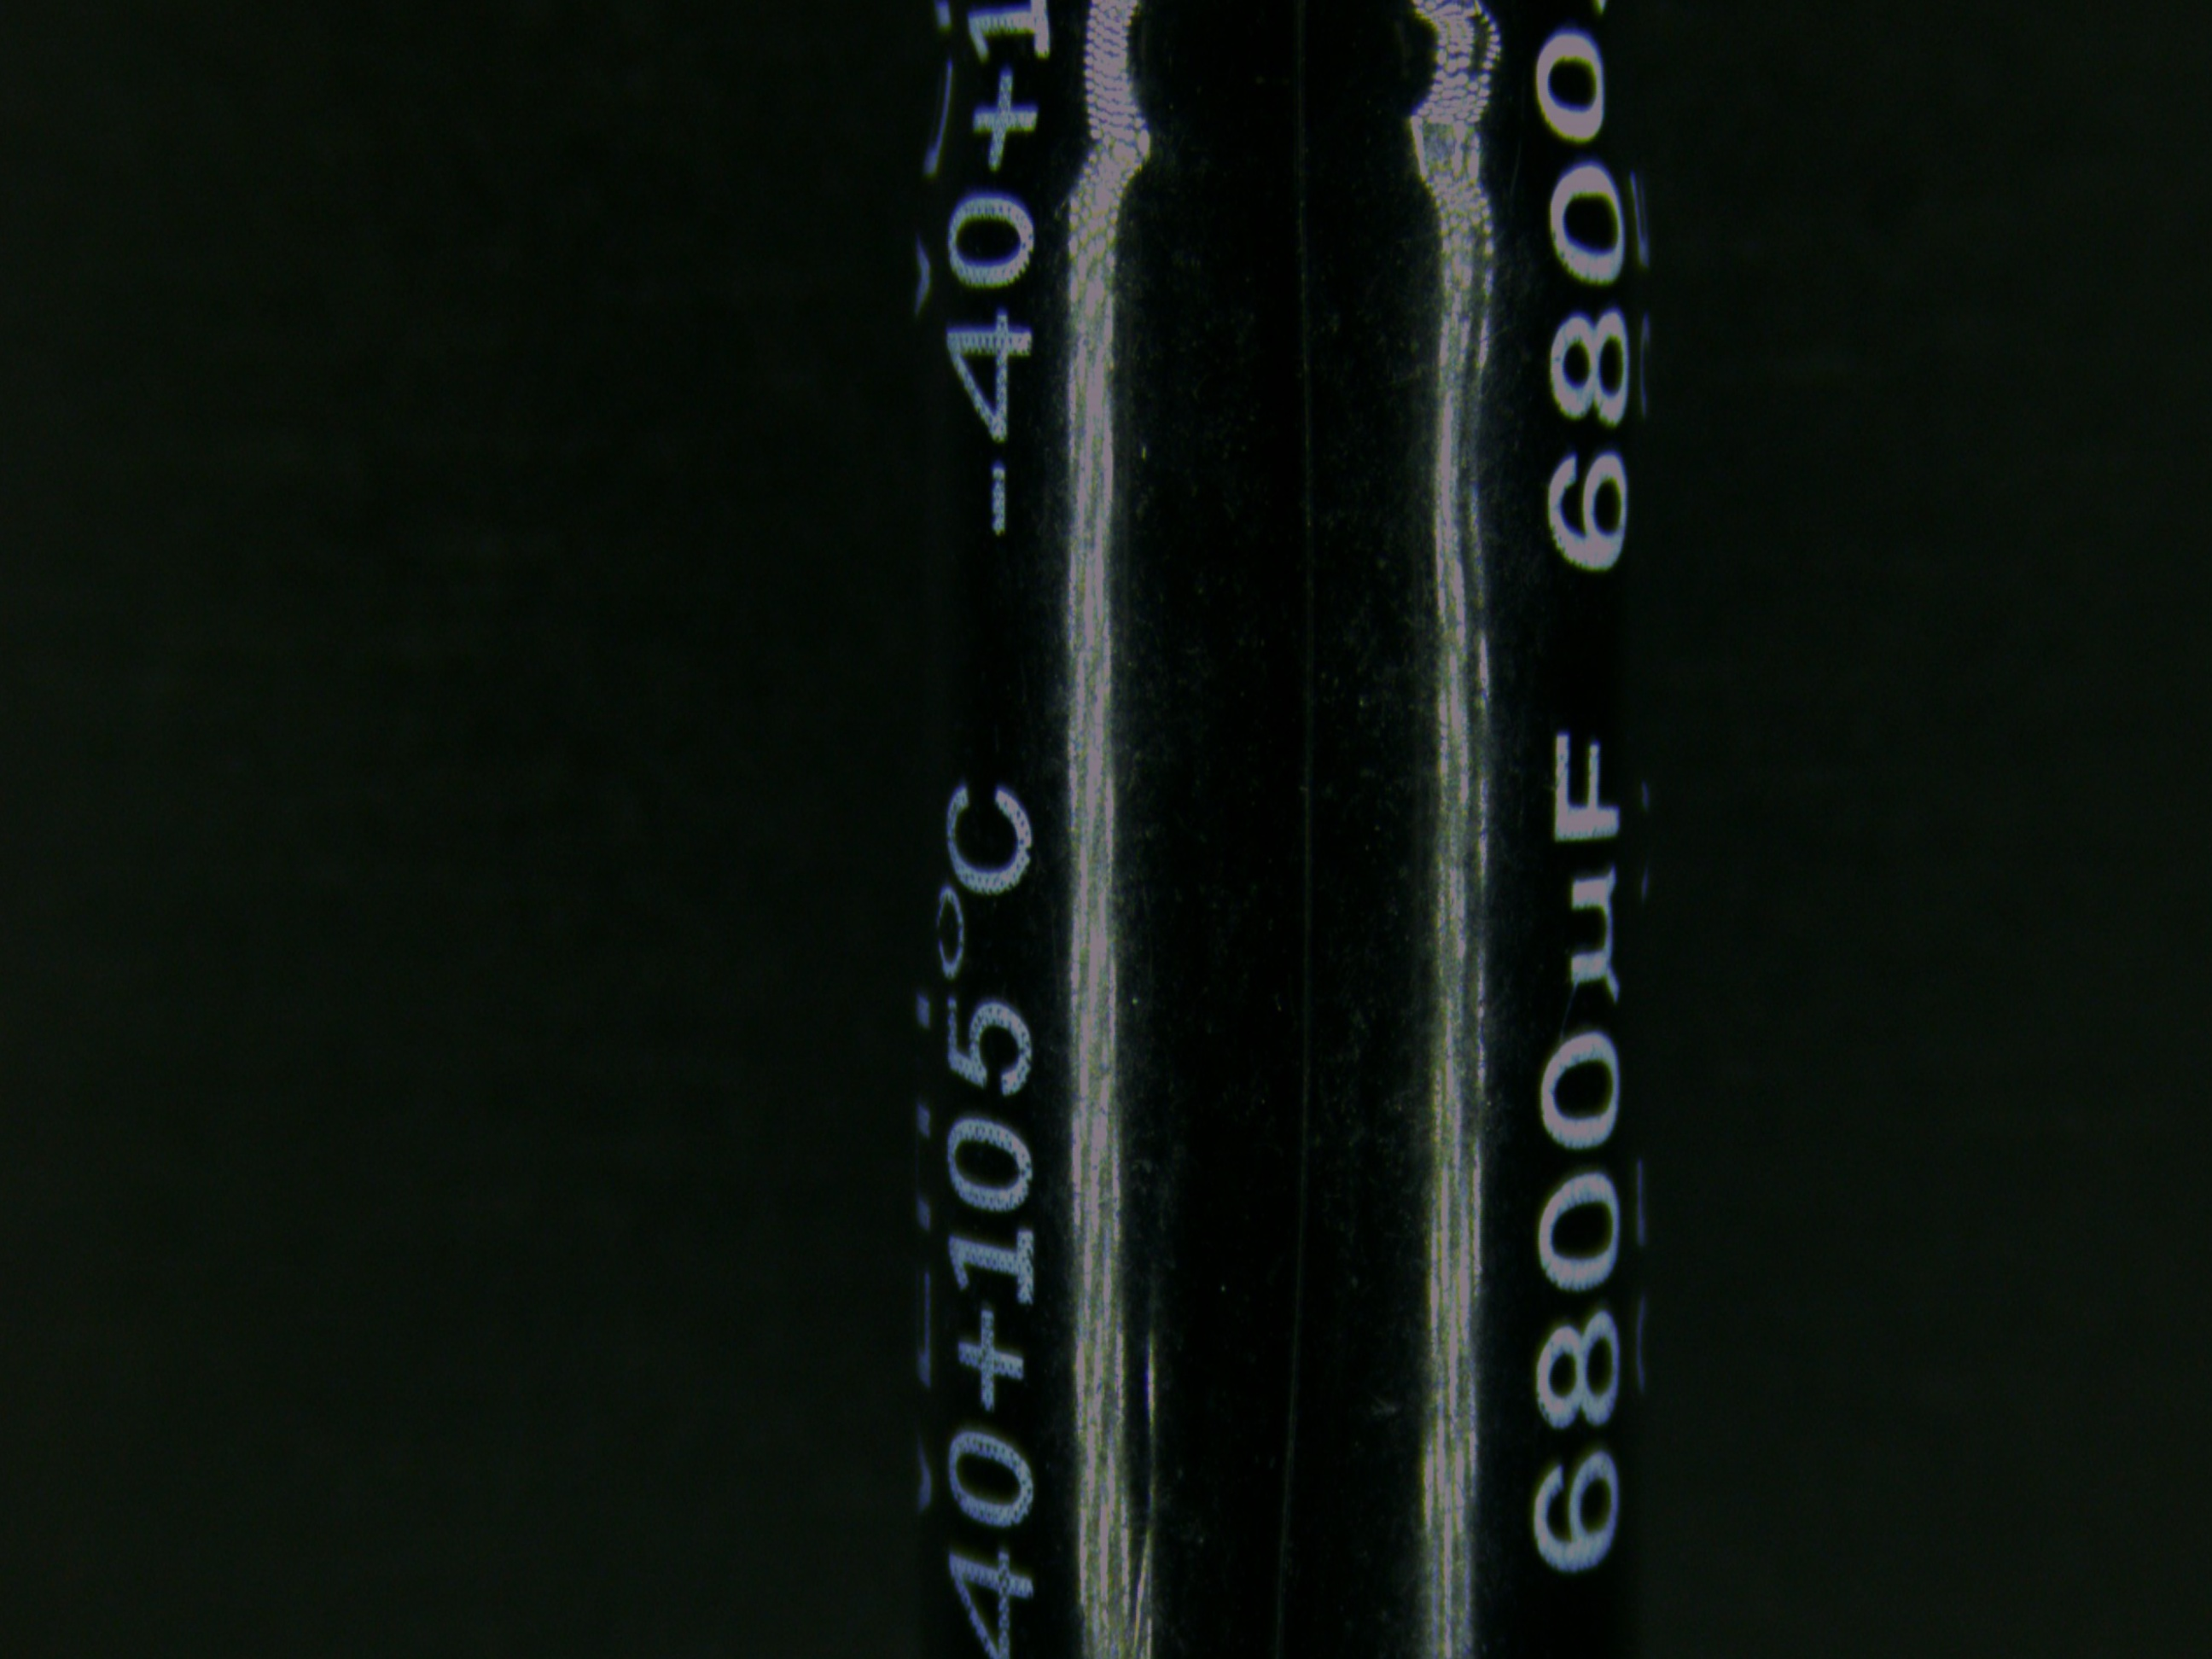c3: (900, 0, 1662, 1659)
